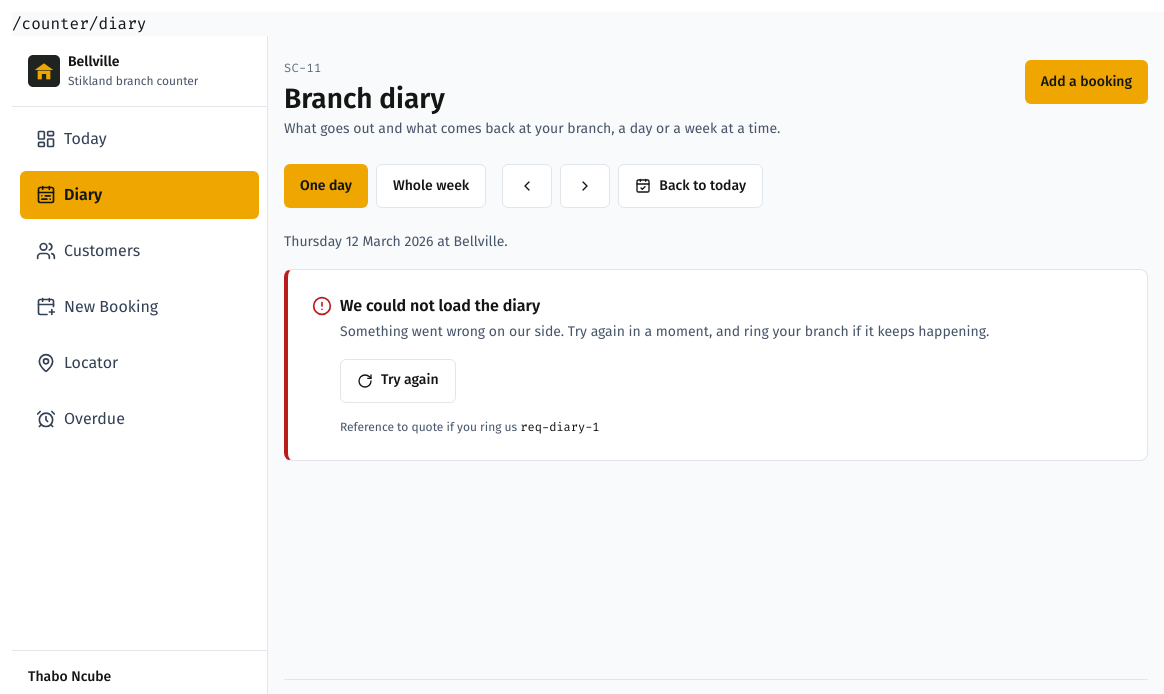
when the diary cannot be read › says so with the reference, and reads it again on a retry
Expected: the message that starts with "We could not load the diary" is shown, [340,296,540,315]
Expected: the text "req-diary-1" is shown, [520,419,600,435]
What coordinates should you click on to do the following:
click the button "Try again"
I would click on:
 (398, 381)
Its box is [340,359,456,403].
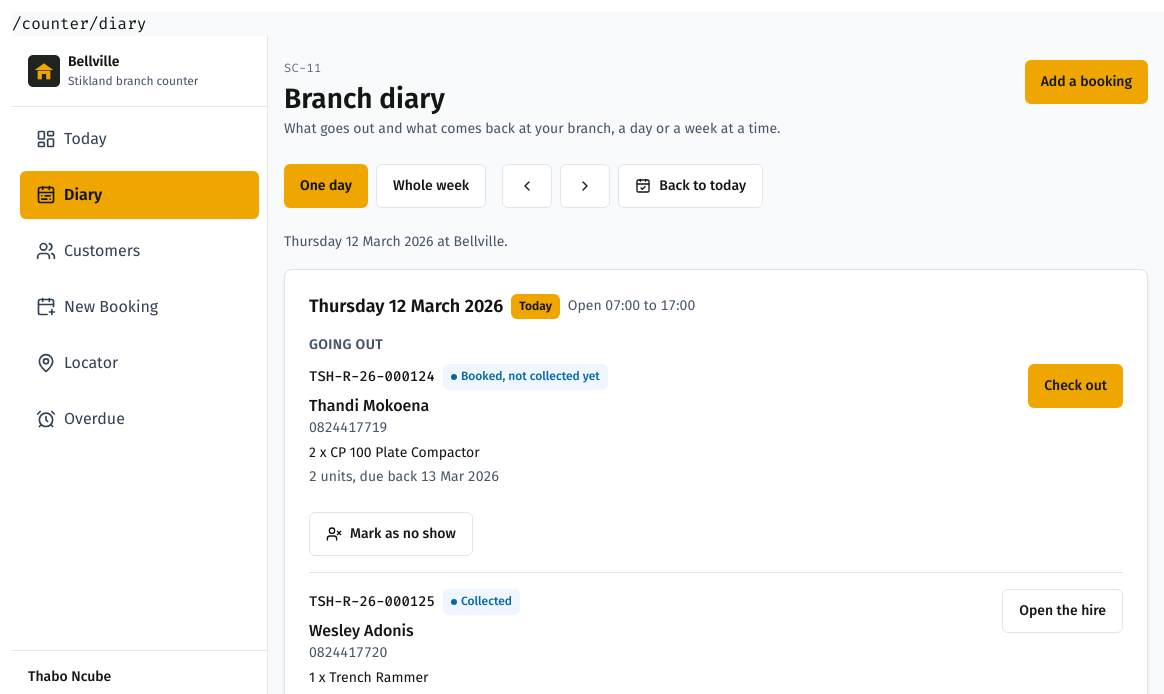
Now the heading "Thursday 12 March 2026 Today Open 07:00 to 17:00" is shown, box [309,294,695,319]
